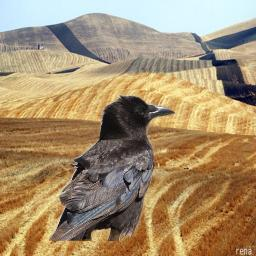Crow: (48, 94, 177, 241)
